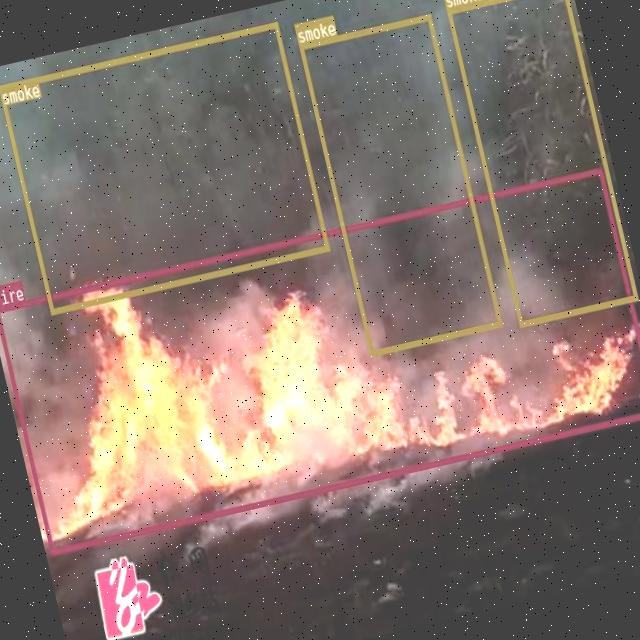fire: (0, 166, 640, 554)
smoke: (0, 20, 329, 313), (298, 13, 501, 355), (444, 0, 637, 327)
